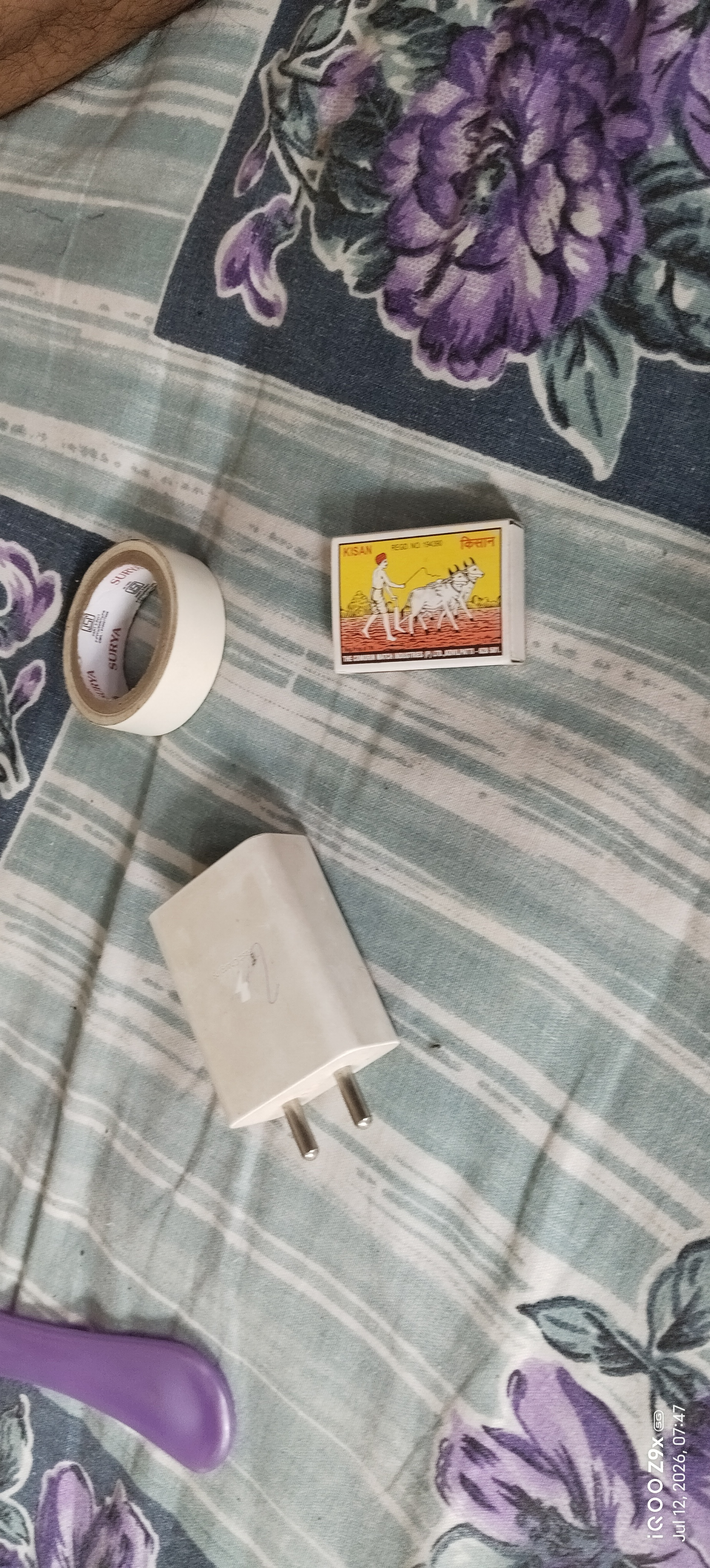charger: (126, 827, 422, 1175)
matchbox: (299, 510, 543, 688)
tape_roll: (54, 524, 233, 750)
